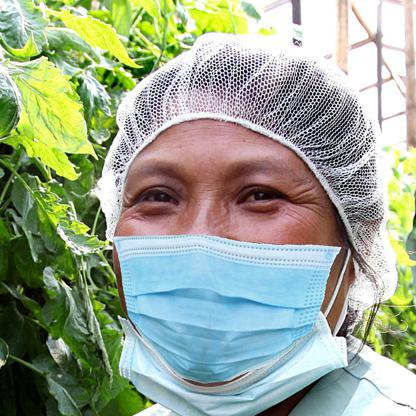mask: (107, 230, 345, 387)
